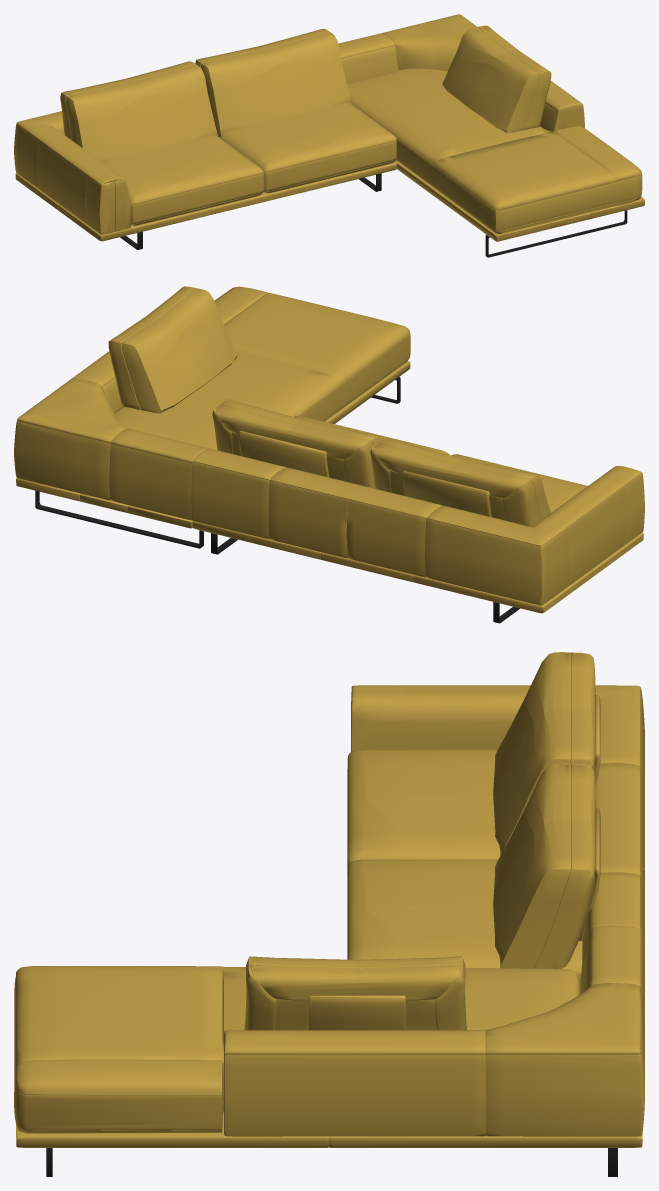
Rendered from Natuzzi-tempo-2834.fbx.
3 views of the same model, one above another, from view 1: azimuth 30°, elevation 25°; view 2: azimuth 150°, elevation 25°; view 3: azimuth 270°, elevation 25° (orthographic). The views are drawn at different scales.
Visible parts, largest first — view 1: Group10, Group31, Group8, Group29, Group20, Group17, Group30, Group19, Group2, Group24, Group16, Group23 (+6 smaller); view 2: Group31, Group10, Group8, Group3, Group2, Group29, Group20, Group30, Group19, Group27, Group13, Group14 (+5 smaller); view 3: Group8, Group10, Group31, Group19, Group24, Group16, Group5, Group17, Group23, Group30, Group2, Group3 (+3 smaller).
Part boxes in pixels (left/top/right/bottom): Group10: left=346, top=68, right=642, bottom=233; Group31: left=14, top=111, right=130, bottom=234; Group8: left=338, top=14, right=584, bottom=131; Group29: left=60, top=79, right=154, bottom=162; Group20: left=195, top=46, right=288, bottom=136; Group17: left=219, top=116, right=331, bottom=193; Group30: left=125, top=61, right=217, bottom=149; Group19: left=260, top=28, right=351, bottom=116; Group2: left=469, top=50, right=551, bottom=133; Group24: left=156, top=135, right=264, bottom=210; Group16: left=289, top=103, right=396, bottom=178; Group23: left=102, top=149, right=198, bottom=225; Group31: left=191, top=448, right=644, bottom=605; Group10: left=114, top=286, right=410, bottom=449; Group8: left=14, top=351, right=208, bottom=520; Group3: left=108, top=316, right=205, bottom=413; Group2: left=147, top=286, right=237, bottom=384; Group29: left=445, top=459, right=550, bottom=526; Group20: left=287, top=420, right=380, bottom=488; Group30: left=370, top=437, right=463, bottom=495; Group19: left=212, top=399, right=304, bottom=455; Group27: left=367, top=532, right=643, bottom=613; Group13: left=238, top=431, right=329, bottom=477; Group14: left=402, top=470, right=491, bottom=517; Group8: left=224, top=925, right=644, bottom=1136; Group10: left=14, top=966, right=579, bottom=1133; Group31: left=351, top=685, right=644, bottom=974; Group19: left=493, top=819, right=595, bottom=968; Group24: left=347, top=795, right=500, bottom=878; Group16: left=347, top=905, right=582, bottom=994; Group5: left=16, top=1112, right=642, bottom=1147; Group17: left=347, top=859, right=497, bottom=931; Group23: left=347, top=749, right=497, bottom=821; Group30: left=493, top=709, right=595, bottom=855; Group2: left=244, top=956, right=355, bottom=1030; Group3: left=355, top=956, right=466, bottom=1030.
Bounding box in the file's own units: 317 × 76.74 × 229.
